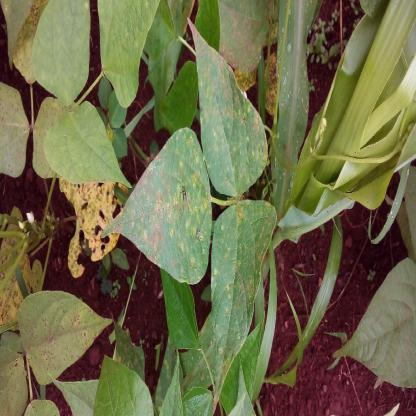Beans_Rust: (105, 128, 209, 288), (189, 17, 262, 195), (209, 201, 277, 392), (64, 160, 119, 282), (0, 211, 34, 328)
